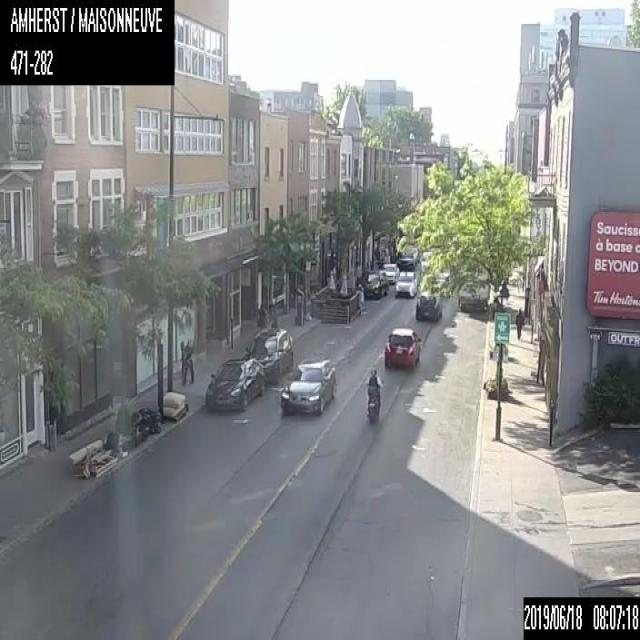pedestrian: (180, 340, 193, 384), (514, 305, 524, 340), (255, 303, 267, 326)
vehicle: (205, 357, 265, 410), (280, 358, 335, 414), (245, 325, 292, 379), (383, 325, 421, 369), (456, 276, 488, 310), (365, 365, 380, 423), (414, 293, 442, 320), (358, 272, 388, 297), (394, 270, 417, 297), (377, 262, 399, 283)
